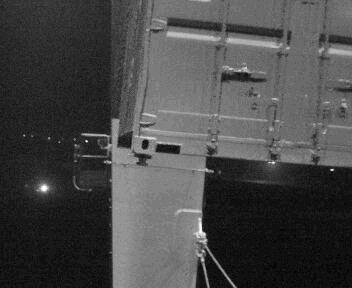twist_lock_1: (131, 150, 156, 173)
